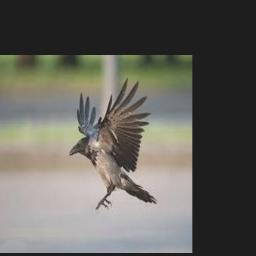Crow: (70, 77, 158, 210)
